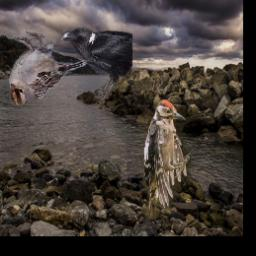Crow: (61, 27, 133, 103)
Sparrow: (6, 31, 87, 106)
Woodpecker: (143, 99, 192, 220)
